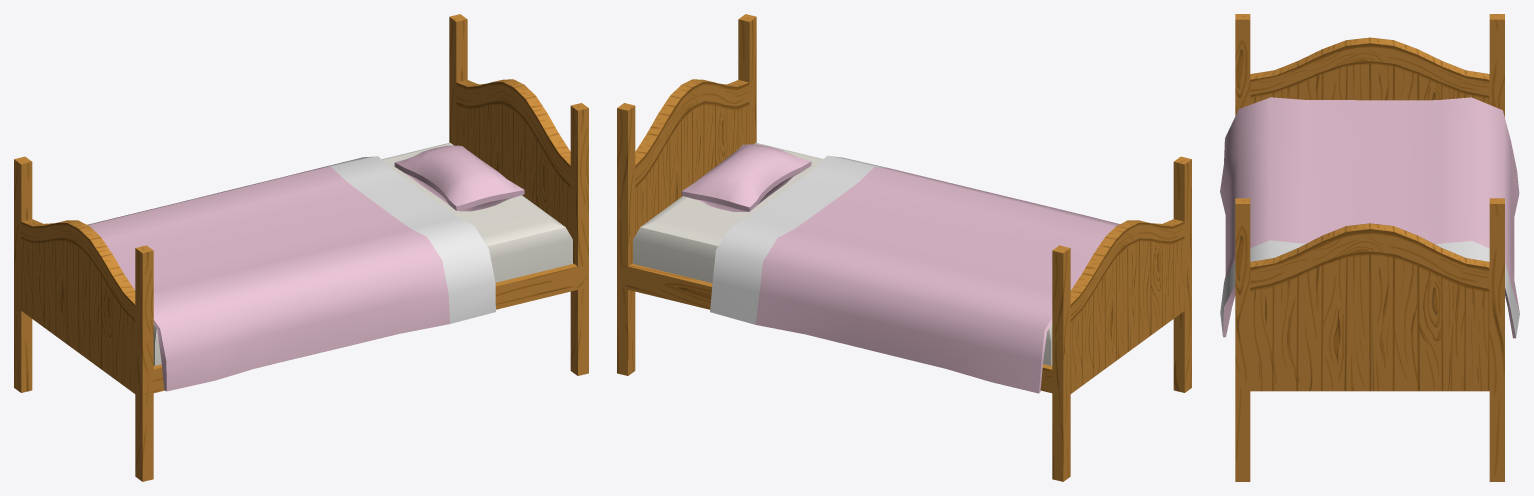
Rendered from Bed_Girl.fbx.
3 views of the same model, side by side, from view 1: azimuth 30°, elevation 25°; view 2: azimuth 150°, elevation 25°; view 3: azimuth 270°, elevation 25° (orthographic). The views are drawn at different scales.
Visible parts, largest first — view 1: pillow1; view 2: pillow1; view 3: pillow1.
Part boxes in pixels (<box>): pillow1: <box>14,14,588,481</box>; pillow1: <box>617,14,1191,481</box>; pillow1: <box>1220,14,1519,481</box>.
Bounding box in the file's own units: 30.05 × 17.06 × 16.69.
